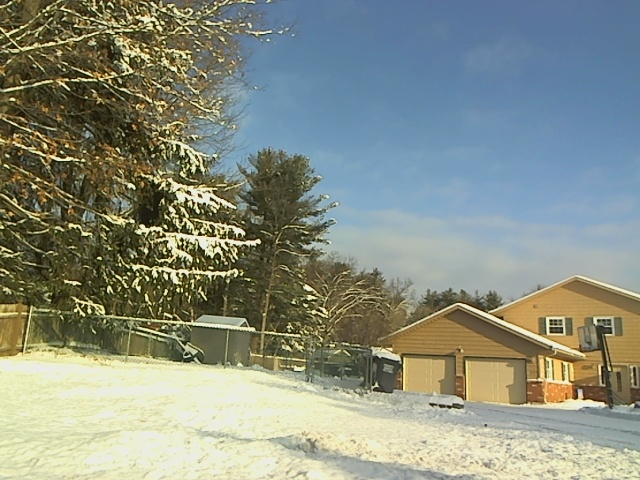Unploughed: (490, 402, 636, 447)
